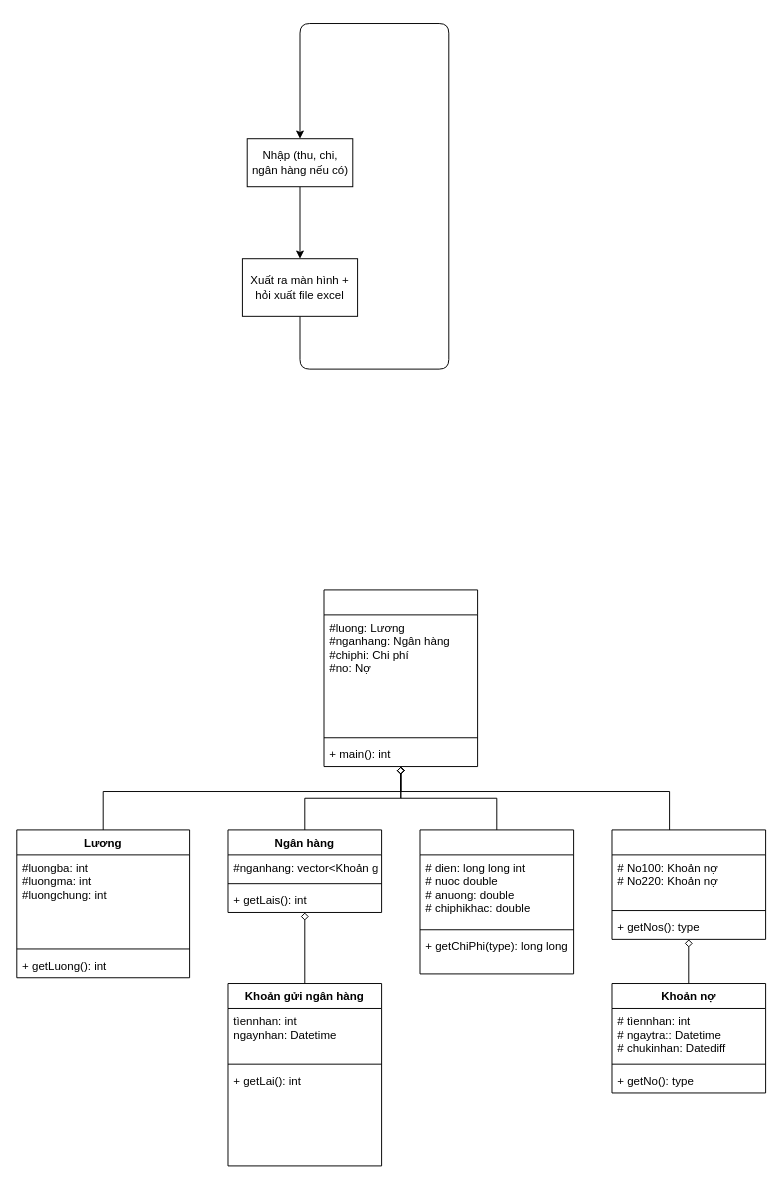
Image size: 782x1186. Some labels were removed from this diagram. The shapes that lost their labels are listed below. From the top down, each one's box as (x1, y1, x2, y2) in pixels, then its label:
(323, 589, 478, 767): Chương trình chính
(419, 829, 574, 974): Chi phí
(611, 829, 766, 939): Nợ
